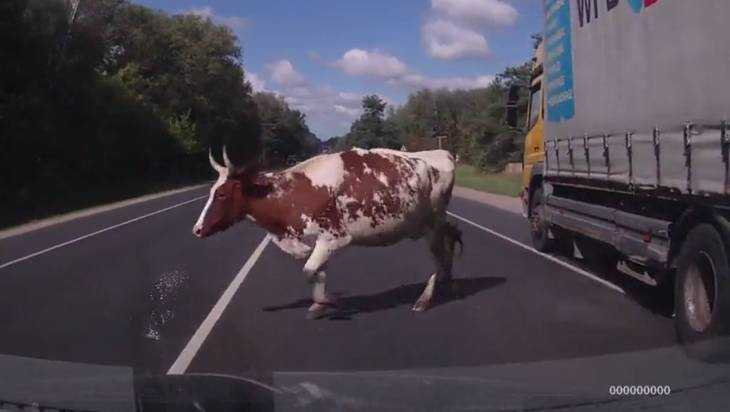inek: (190, 143, 479, 333)
kamyon: (494, 0, 729, 410)
